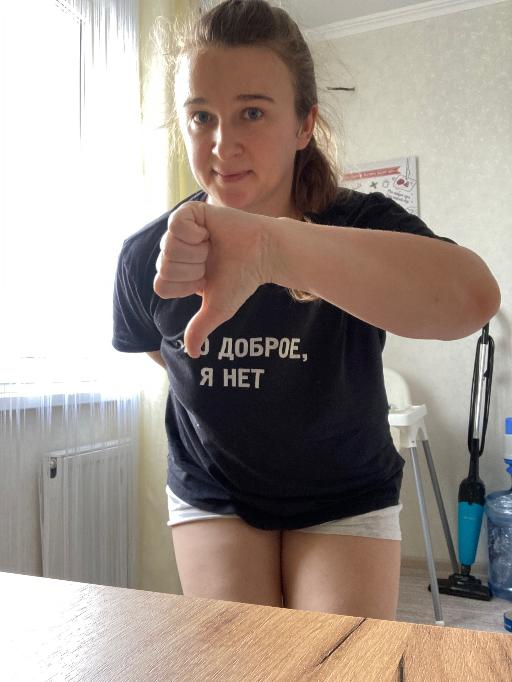dislike: (149, 197, 277, 361)
